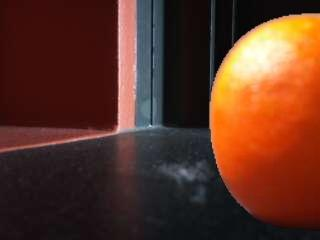Orange: (212, 16, 320, 229)
